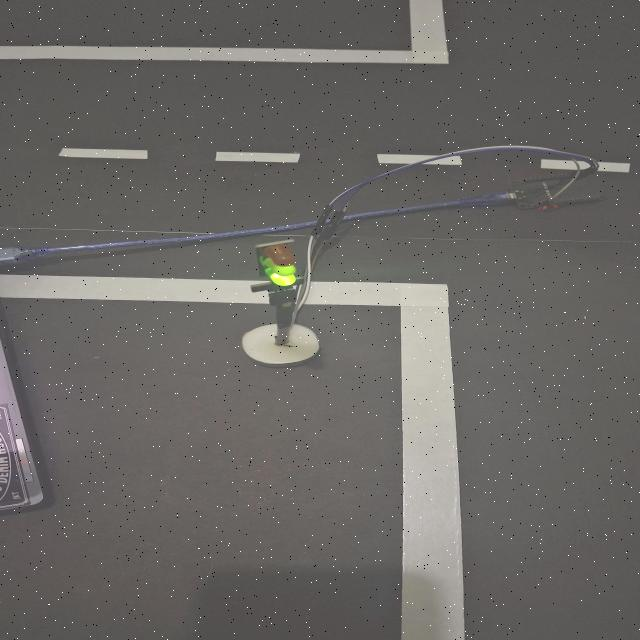Lampu Hijau: (258, 240, 300, 288)
